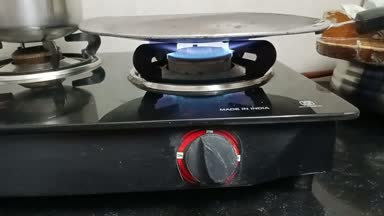flame_gas_on: (129, 41, 295, 188)
